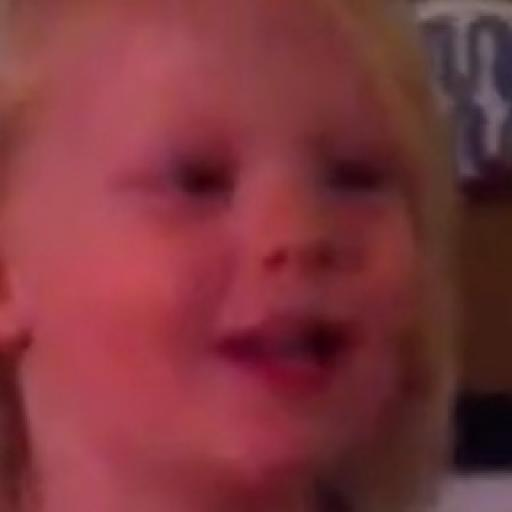Autism: (33, 23, 490, 504)
